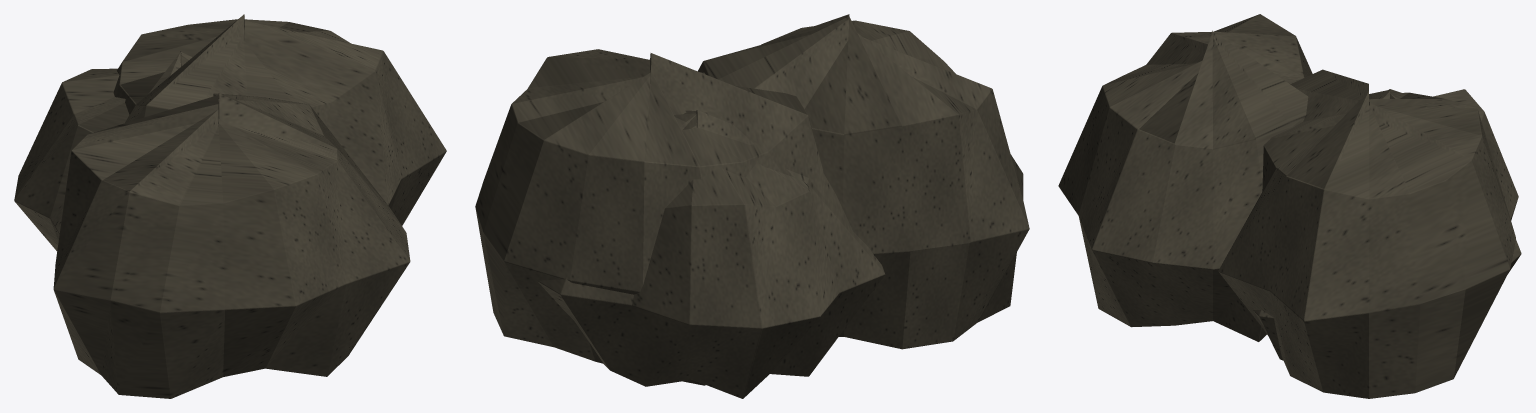
Rendered from PROP-CD51229BED7C_lod0.glb.
3 views of the same model, side by side, from view 1: azimuth 30°, elevation 25°; view 2: azimuth 150°, elevation 25°; view 3: azimuth 270°, elevation 25° (orthographic). The views are drawn at different scales.
Visible parts, largest first — view 1: rock.007; view 2: rock.007; view 3: rock.007.
Boxes of the visible parts, x1=… form: rock.007: x1=14, y1=14, x2=446, y2=398; rock.007: x1=475, y1=14, x2=1029, y2=398; rock.007: x1=1058, y1=14, x2=1521, y2=398.
Bounding box in the file's own units: 1.74 × 0.9636 × 1.59.
Materials: 1 (1 with a texture image).
